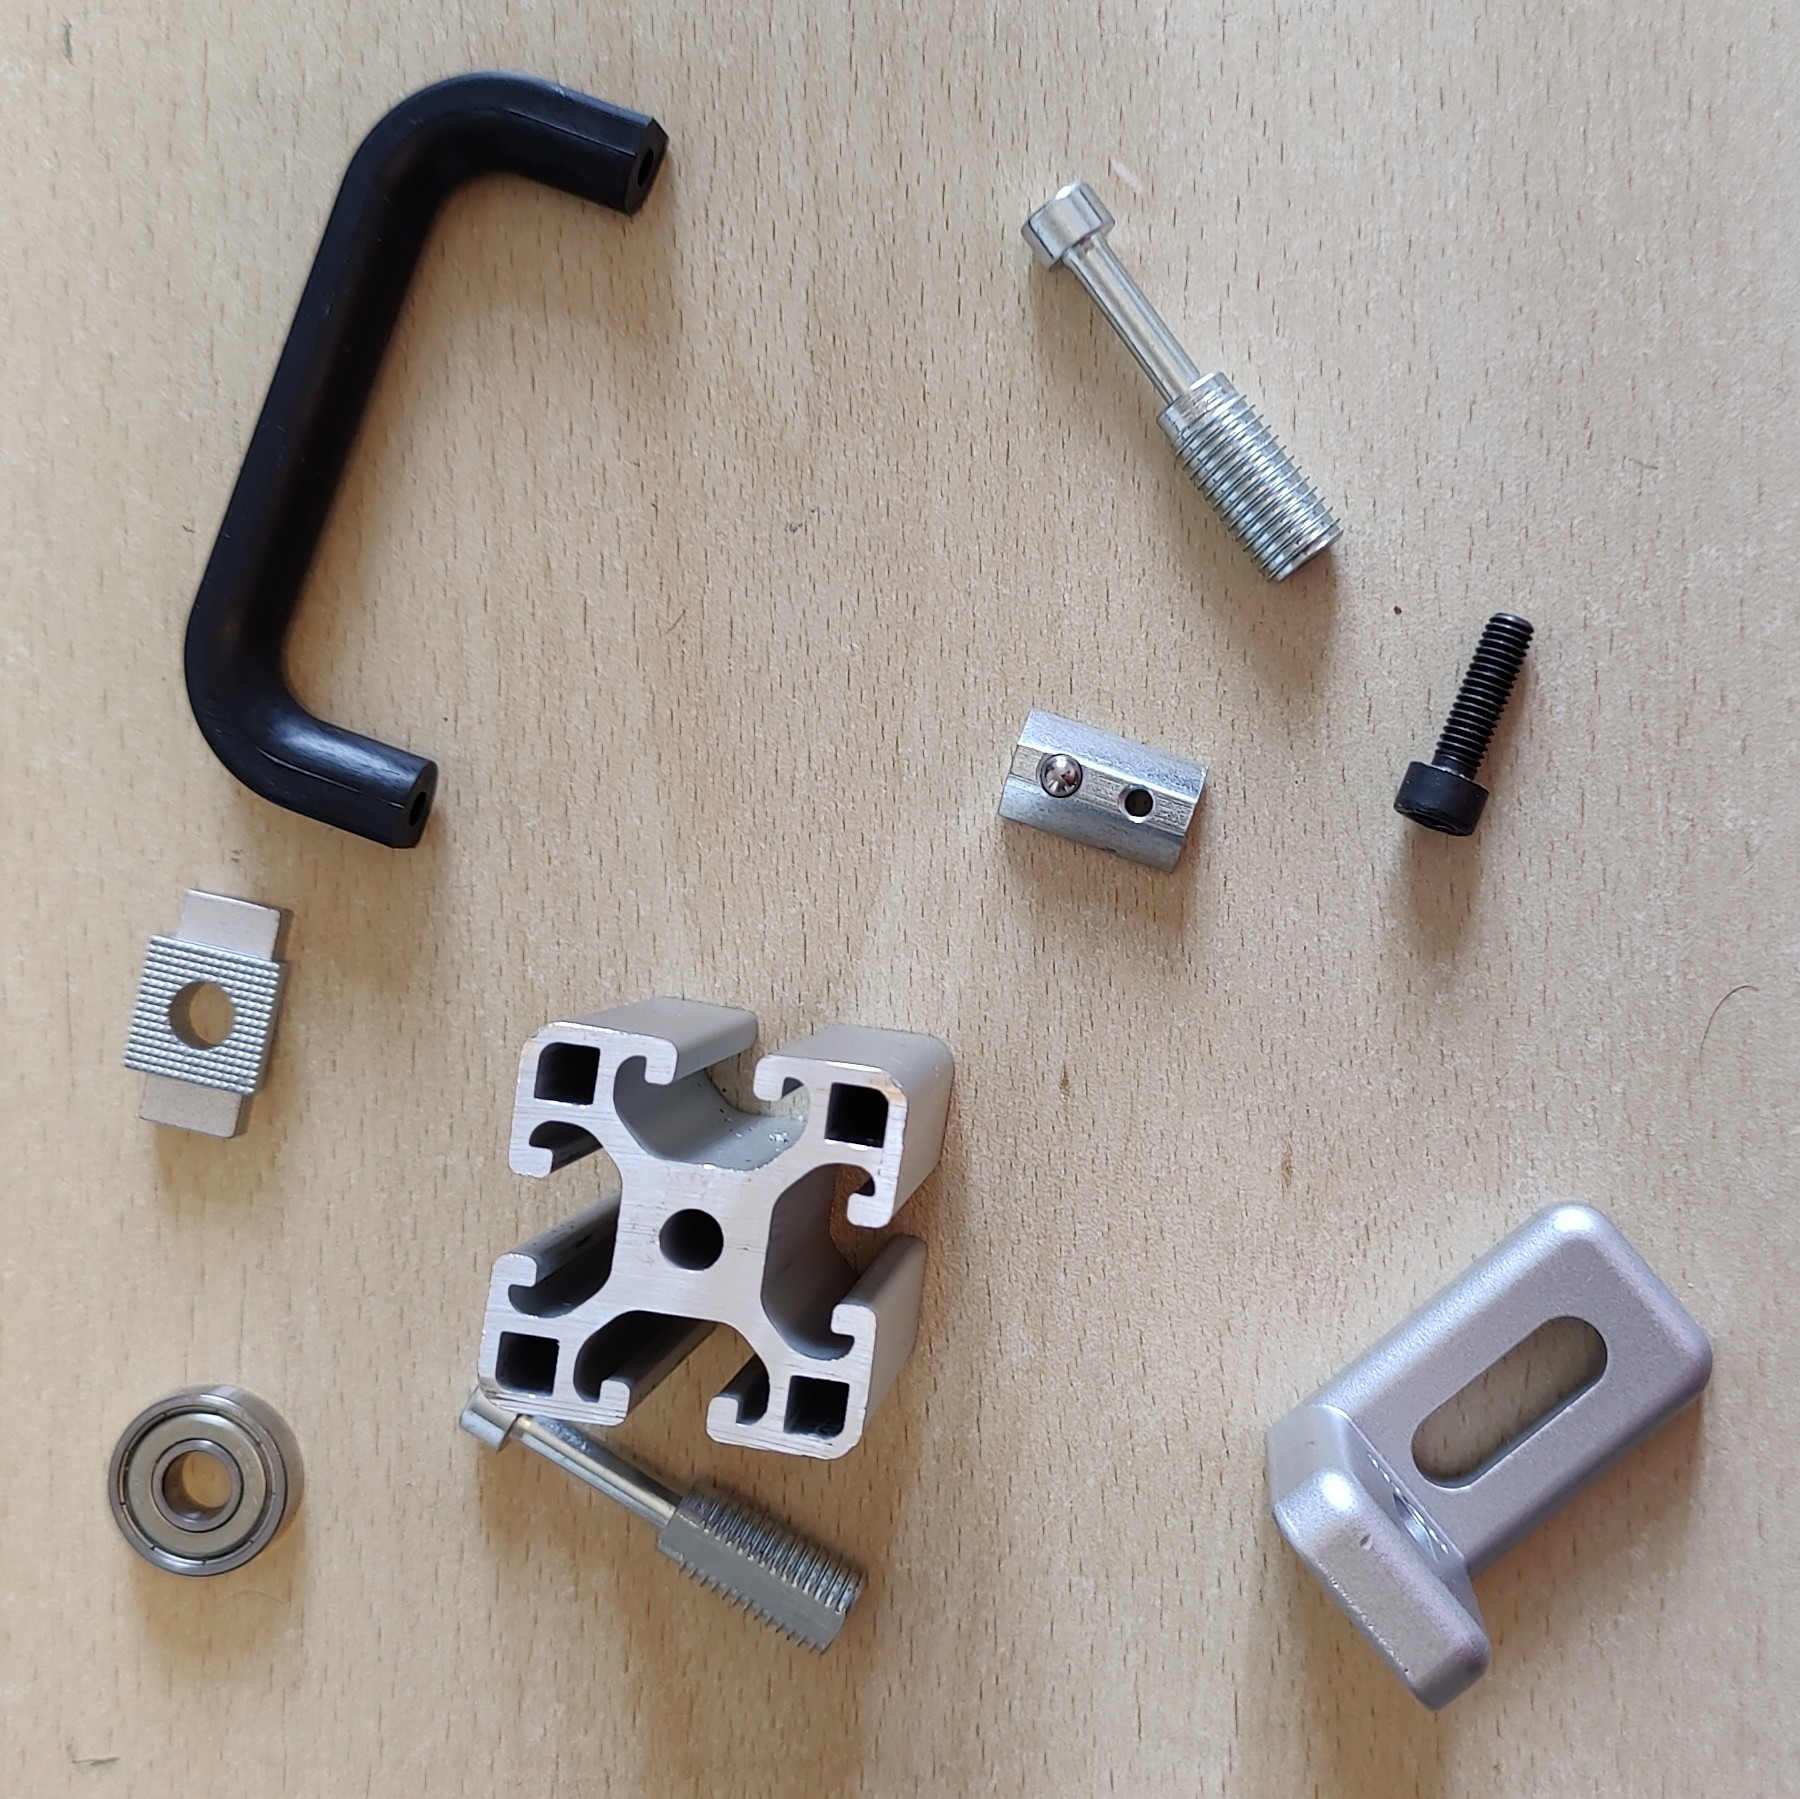Aluminium Extension: (474, 993, 958, 1465)
Ball Bearing: (105, 1381, 308, 1580)
Multiwinkel: (1261, 1196, 1716, 1713)
Pull Handle: (181, 68, 670, 850)
Shoulder Socket Head Cap Screw: (1019, 176, 1347, 588), (456, 1376, 870, 1661)
Socket Head Cap Screw: (1390, 610, 1538, 839)
T Nut Square: (120, 885, 296, 1142)
T Spring Nut: (995, 707, 1212, 876)
